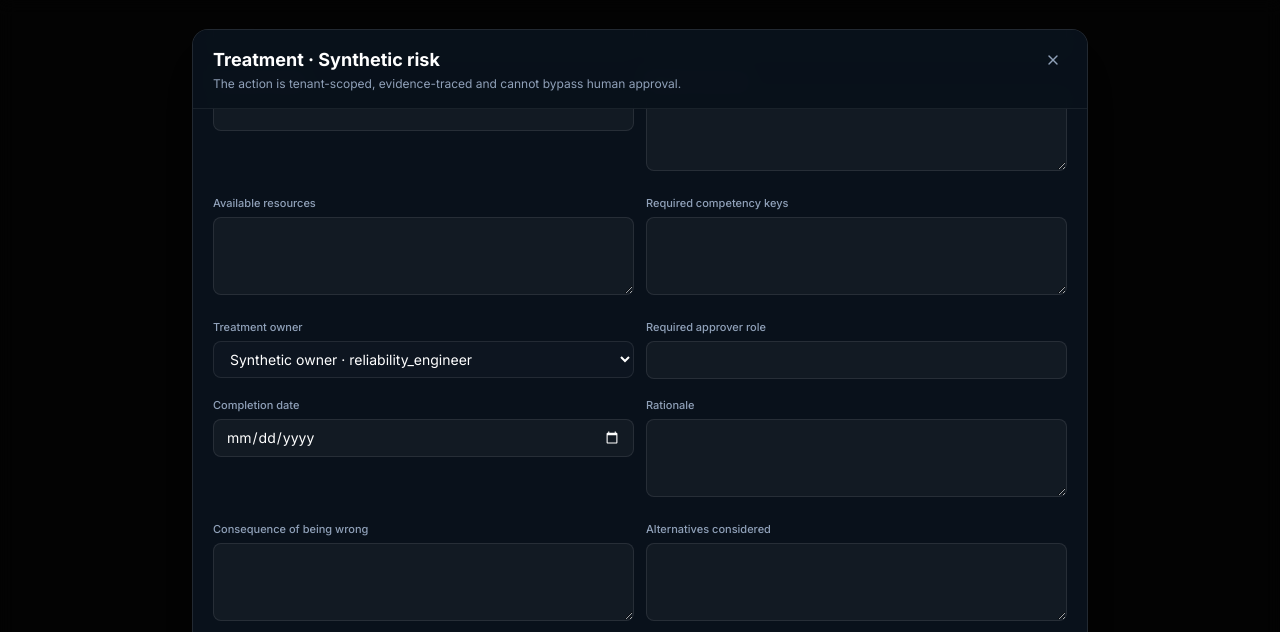
Test: actual governed Risk ActionModal › reports selection-contract gaps instead of claiming ready for approval
(page scrolled)
Type "maintenance_manager" into the field labelled "Required approver role" at (856, 360), box [646,341,1067,379]
(page scrolled)
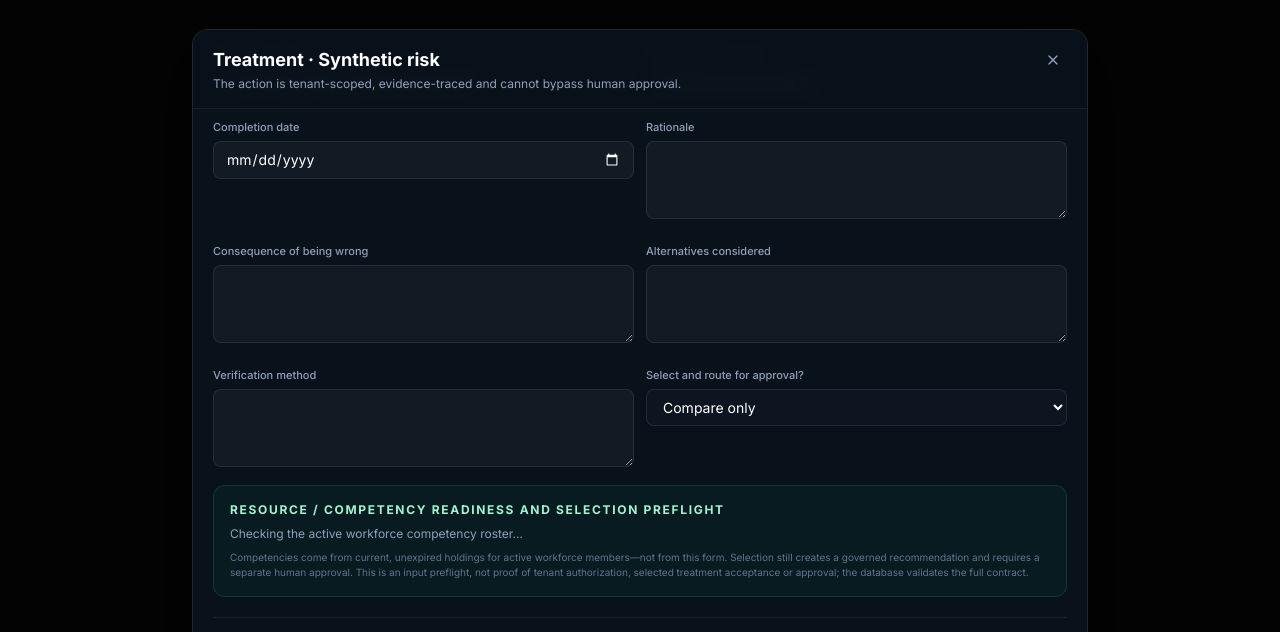
Type "Inspect completed repair" into the text box labelled "Verification method" at (424, 428), box [213,389,634,467]
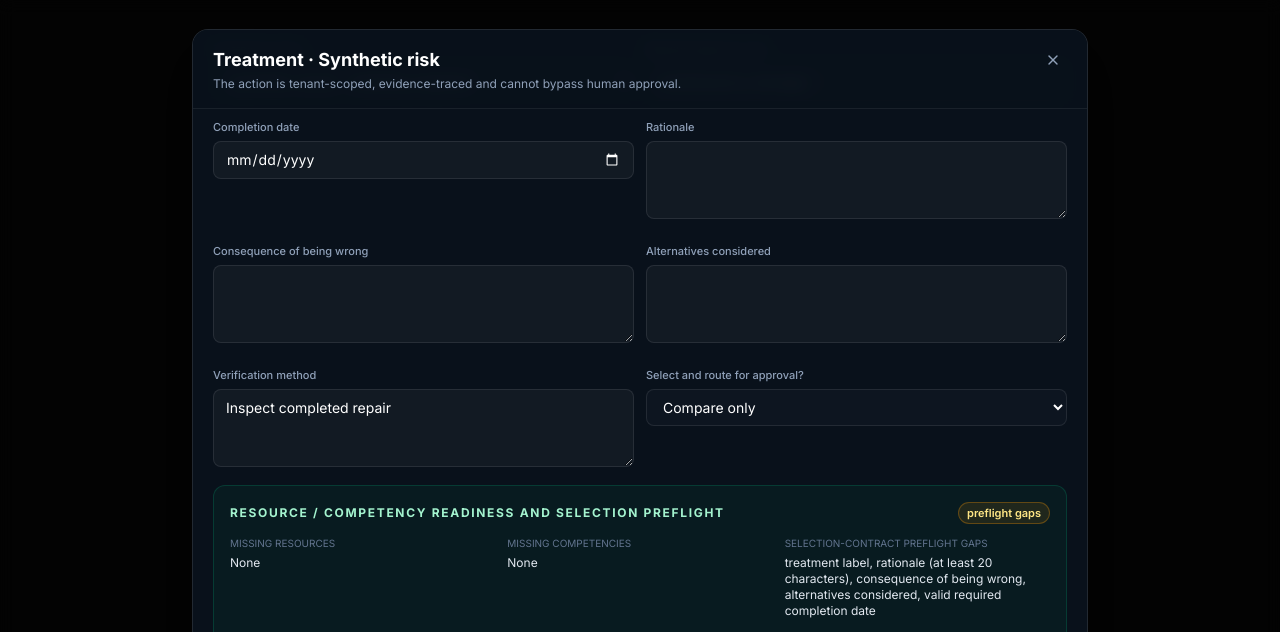
Expected: the element with test id "treatment-readiness-preview" shows "preflight", [230,505,725,520]
Expected: the element with test id "treatment-readiness-preview" shows "rationale", [785,555,1026,618]
Expected: the element with test id "treatment-readiness-preview" shows "completion", [785,555,1026,618]
